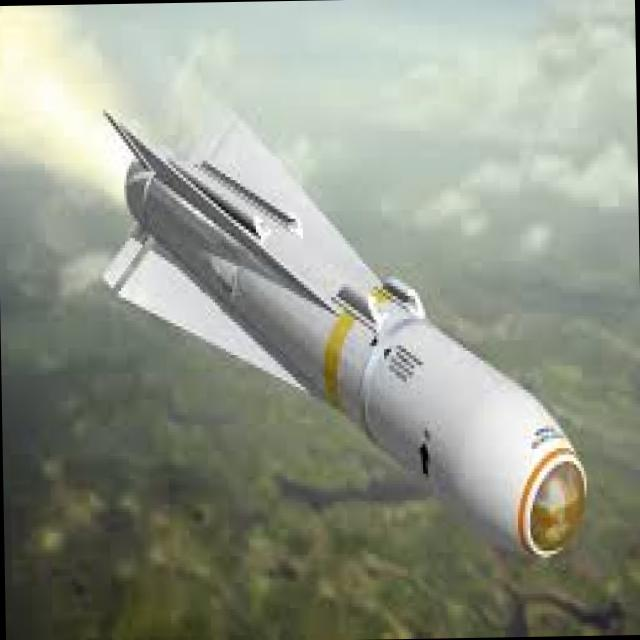rocket: (101, 68, 589, 574)
